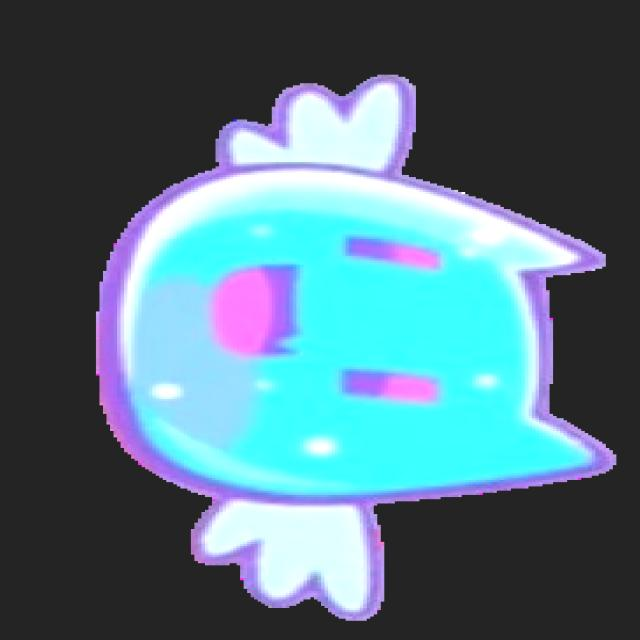Sky Monster - Blue Devil: (91, 72, 619, 620)
